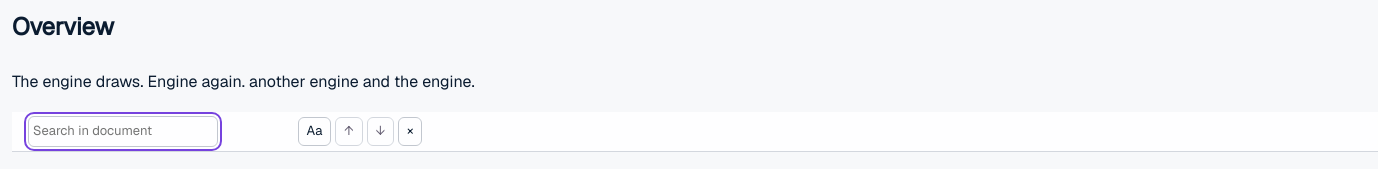
Test: 面板与输入 › 无结果给明确提示（§12「搜索无结果」）
Type "zzzz" into the field with class "readora-search-input" at (123, 131), box [28, 116, 218, 147]
Wait 250 ms
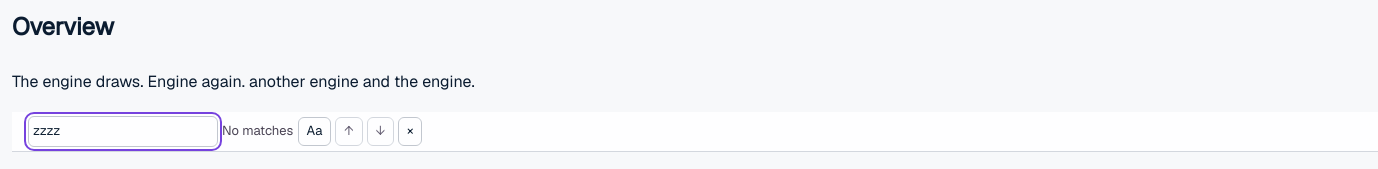
Check: the message with class "readora-search-count" reads "No matches", box [222, 122, 293, 139]
